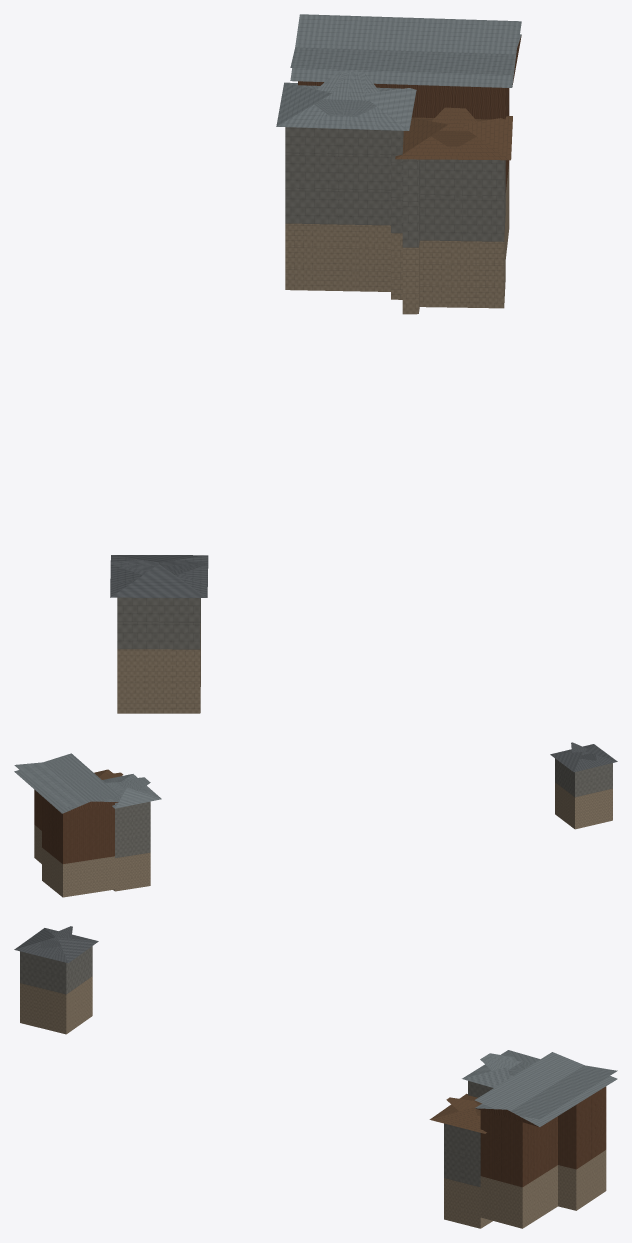
File: bld_c2_17_469.gltf
3 renders of one model, top to bottom at view 1: azimuth 30°, elevation 25°; view 2: azimuth 150°, elevation 25°; view 3: azimuth 270°, elevation 25°, orthographic. The views are drawn at different scales.
Visible parts, largest first — view 1: bld_c2_17_469; view 2: bld_c2_17_469; view 3: bld_c2_17_469.
Part boxes in pixels (left/top/right/bottom): bld_c2_17_469: left=110, top=14, right=521, bottom=713; bld_c2_17_469: left=14, top=742, right=617, bottom=897; bld_c2_17_469: left=14, top=926, right=617, bottom=1228.
Bounding box in the file's own units: 64.94 × 15.9 × 67.44.
Materials: 7 (7 with a texture image).
